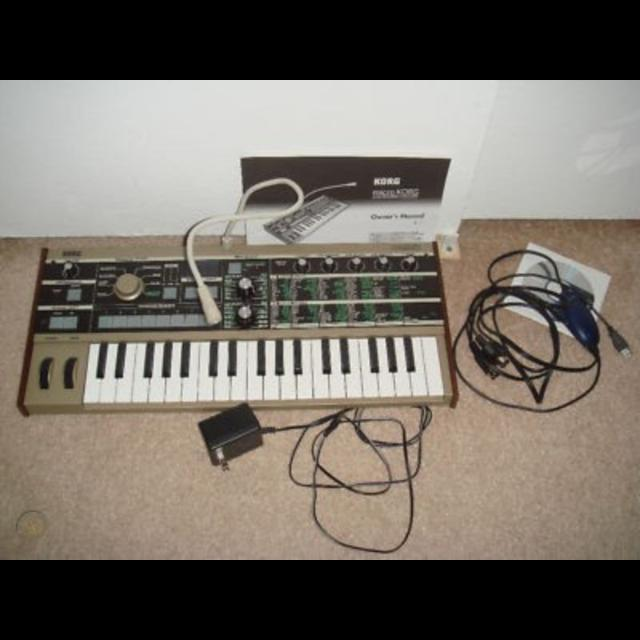Electronic-Keyboard: (29, 240, 454, 406)
